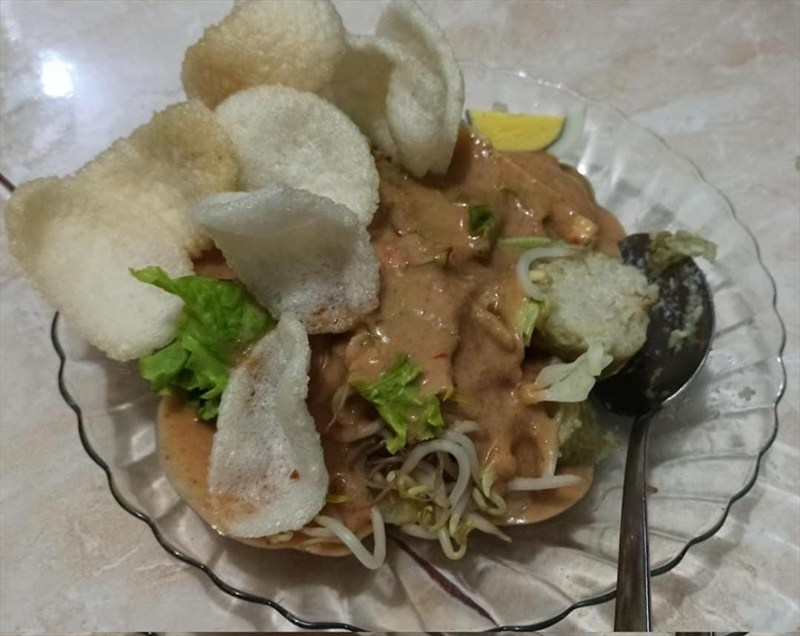Gado-Gado: (142, 142, 703, 595)
